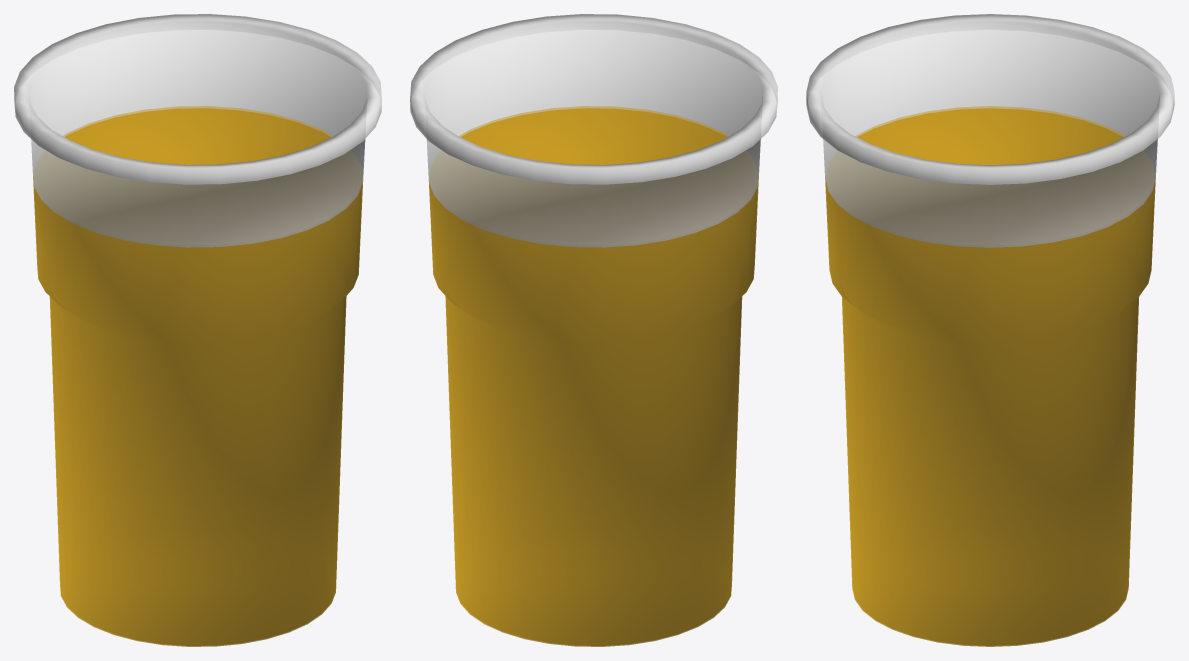
Rendered from bokal.fbx.
3 renders of one model, left to right at view 1: azimuth 30°, elevation 25°; view 2: azimuth 150°, elevation 25°; view 3: azimuth 270°, elevation 25°, orthographic.
Visible parts, largest first — view 1: Circle.000; view 2: Circle.000; view 3: Circle.000.
Boxes of the visible parts, x1,y1,x2,y2 form: Circle.000: (14,14,381,646); Circle.000: (410,14,777,646); Circle.000: (806,14,1174,646).
Size of the model in its own units: 266 by 396 by 266.
